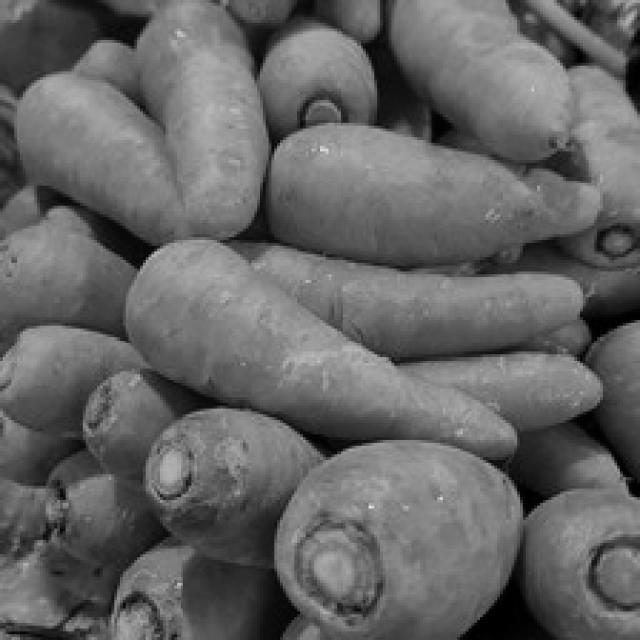Fresh_Carrot: (133, 239, 418, 427), (12, 84, 176, 214)
